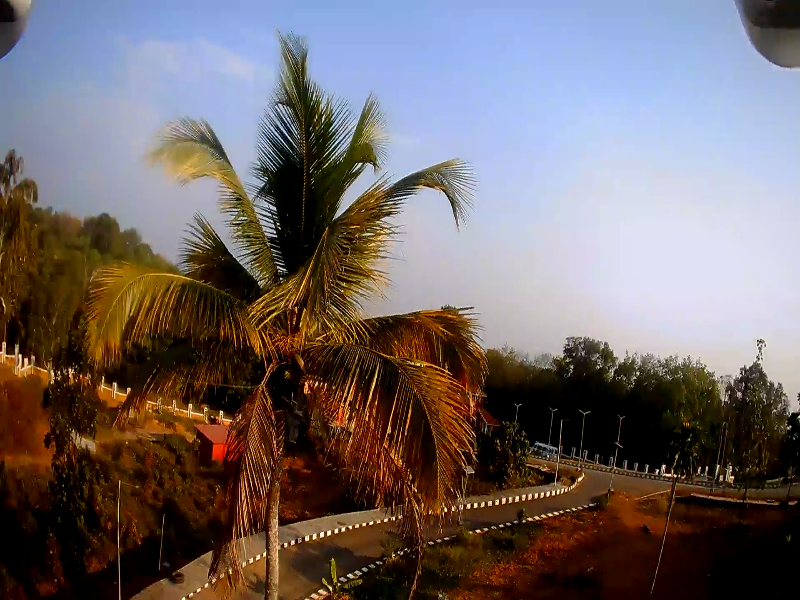coconut: (281, 366, 294, 382)
